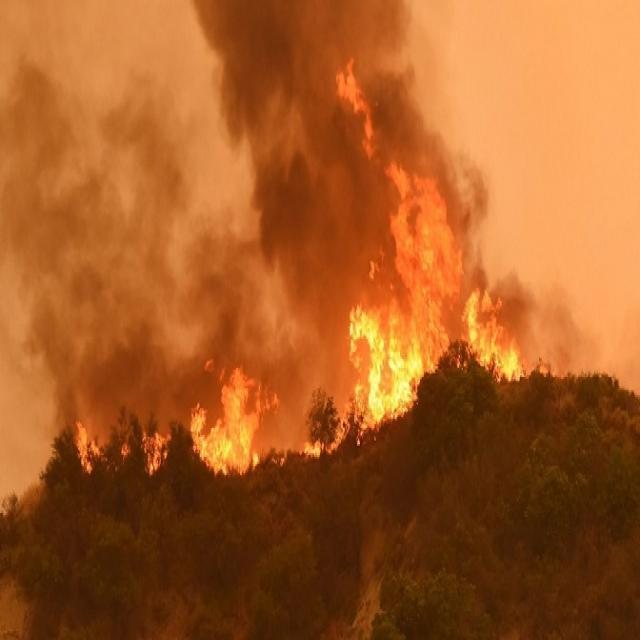Fire: (1, 0, 186, 406), (348, 164, 549, 458), (192, 364, 344, 478), (63, 416, 178, 482), (337, 56, 380, 158)
Smoke: (190, 4, 328, 344)
